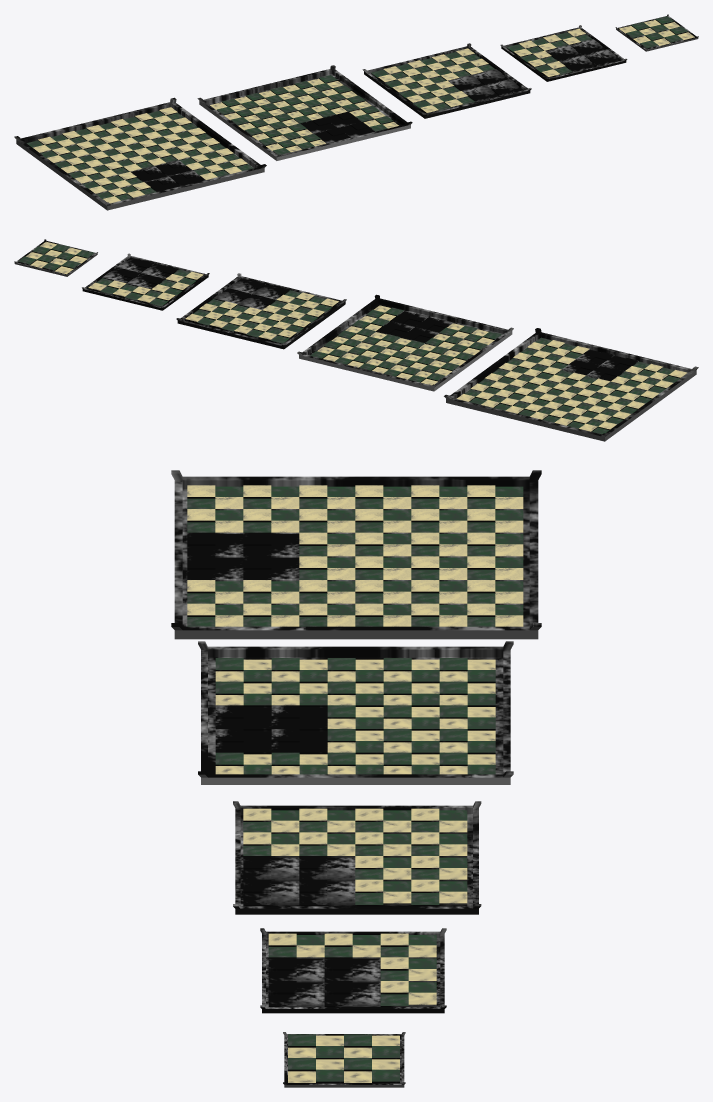
The model's file is levelsFinal.fbx.
The picture shows the model from 3 angles, top to bottom: view 1: azimuth 30°, elevation 25°; view 2: azimuth 150°, elevation 25°; view 3: azimuth 270°, elevation 25°; orthographic projection. The views are drawn at different scales.
Parts seen in each view (by area): view 1: Grid12x12, Grid10x10, Grid8x8, Grid6x6, Grid4x4; view 2: Grid12x12, Grid10x10, Grid8x8, Grid6x6, Grid4x4; view 3: Grid12x12, Grid10x10, Grid8x8, Grid6x6, Grid4x4.
Boxes of the visible parts, x1,y1,x2,y2 form: Grid12x12: (14,97,266,210); Grid10x10: (197,65,412,160); Grid8x8: (362,43,531,118); Grid6x6: (500,25,627,81); Grid4x4: (615,14,698,51); Grid12x12: (444,328,698,441); Grid10x10: (297,294,513,391); Grid8x8: (176,273,346,349); Grid6x6: (82,253,209,310); Grid4x4: (14,239,97,276); Grid12x12: (171,470,541,639); Grid10x10: (198,641,513,784); Grid8x8: (233,801,481,914); Grid6x6: (260,928,446,1013); Grid4x4: (283,1032,405,1087).
Bounding box in the file's own units: 5116 × 64.17 × 1323.
Materials: 5 (5 with a texture image).
